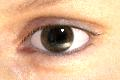eye: (41, 28, 74, 52)
